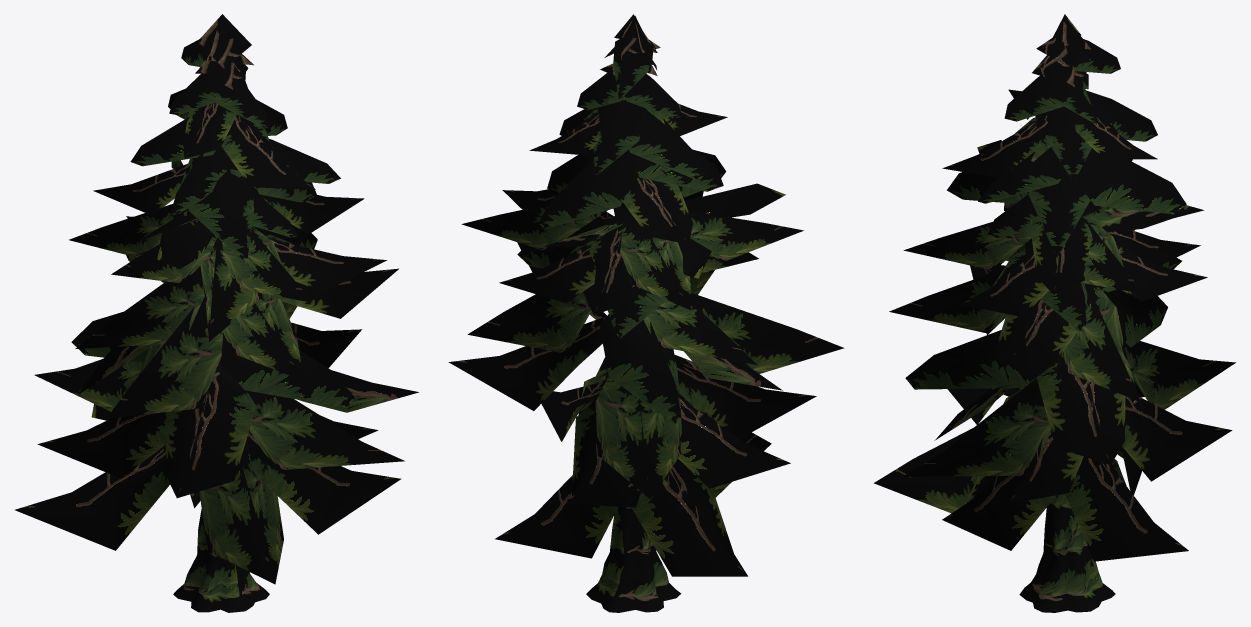
File: Spruce.glb
3 renders of one model, left to right at view 1: azimuth 30°, elevation 25°; view 2: azimuth 150°, elevation 25°; view 3: azimuth 270°, elevation 25°, orthographic.
Parts seen in each view (by area): view 1: Spruce; view 2: Spruce; view 3: Spruce.
Part boxes in pixels (box(x1,y1,x2,y2)): Spruce: box(15, 14, 418, 612); Spruce: box(448, 14, 844, 612); Spruce: box(874, 14, 1235, 612).
Bounding box in the file's own units: 27.34 × 45.36 × 25.7.
Materials: 1 (1 with a texture image).
